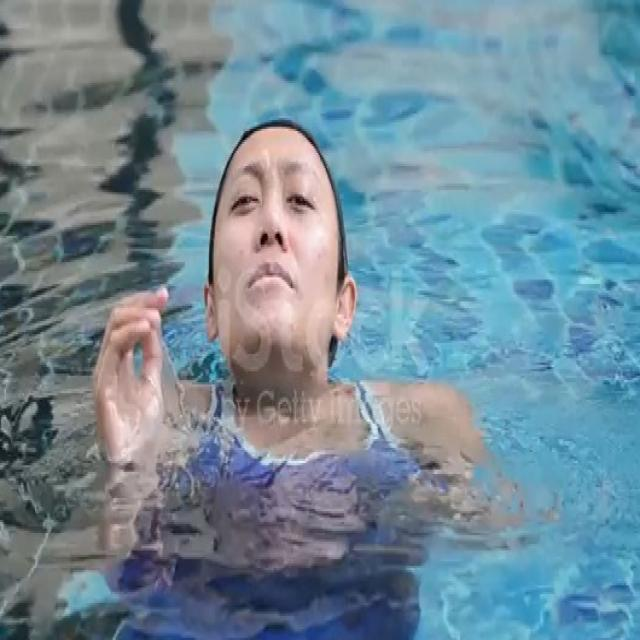Drowning: (92, 113, 498, 517)
